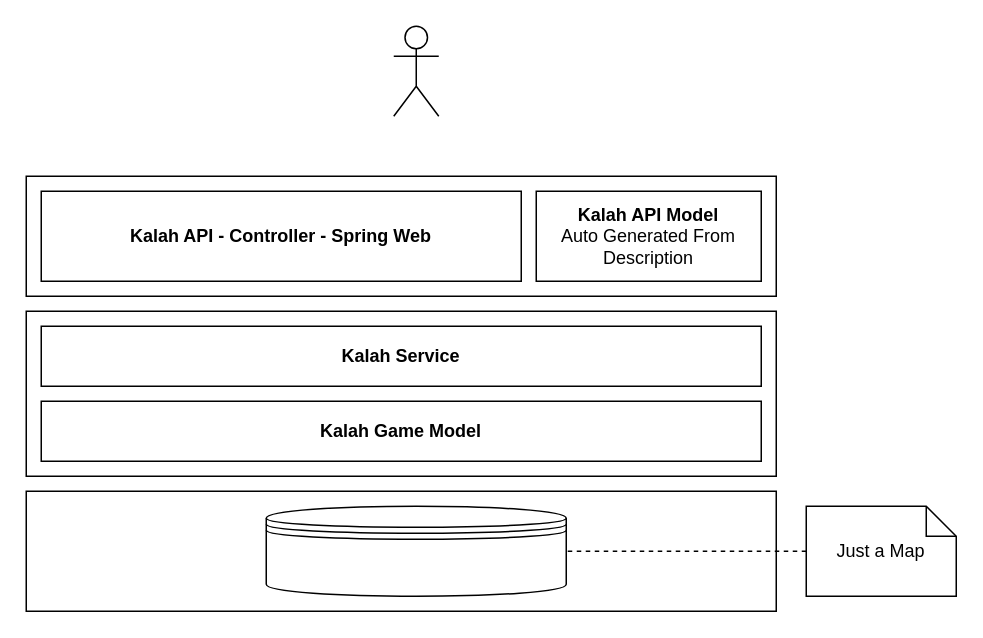
Some shapes in this 983 by 638 pixel diagram are drawn without their labels. Here are the shapes that lost their labels. From the top down, the centre of each, then its label:
At [415,70]: "Clent".
At [415,550]: "Map".
